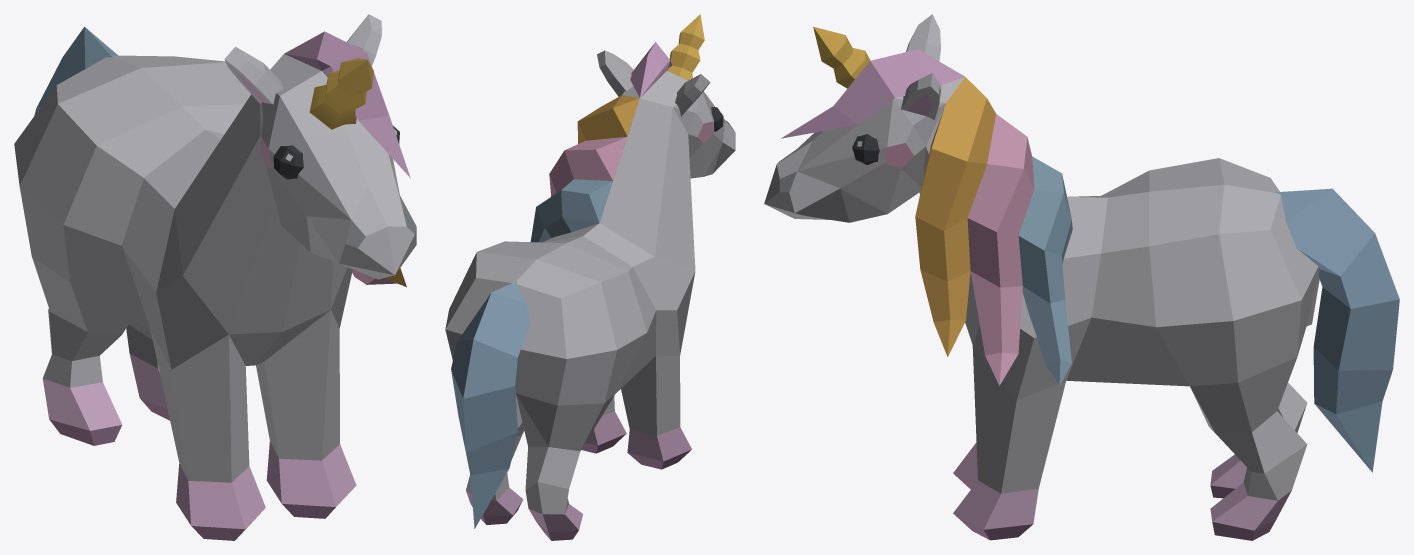
Rendered from SM_Prop_Plushie_05.glb.
3 renders of one model, left to right at view 1: azimuth 30°, elevation 25°; view 2: azimuth 150°, elevation 25°; view 3: azimuth 270°, elevation 25°, orthographic. The views are drawn at different scales.
Visible parts, largest first — view 1: SM_Prop_Plushie_05; view 2: SM_Prop_Plushie_05; view 3: SM_Prop_Plushie_05.
Boxes of the visible parts, x1=… form: SM_Prop_Plushie_05: x1=14, y1=14, x2=416, y2=540; SM_Prop_Plushie_05: x1=445, y1=14, x2=735, y2=540; SM_Prop_Plushie_05: x1=764, y1=14, x2=1399, y2=540.
Size of the model in its own units: 37.75 by 74.48 by 88.39.
1 material, 1 textured.
